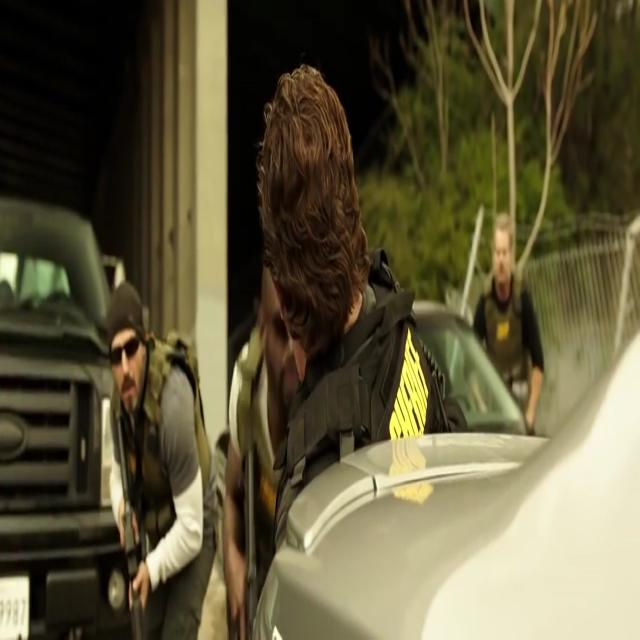Weapon: (102, 388, 158, 640)
